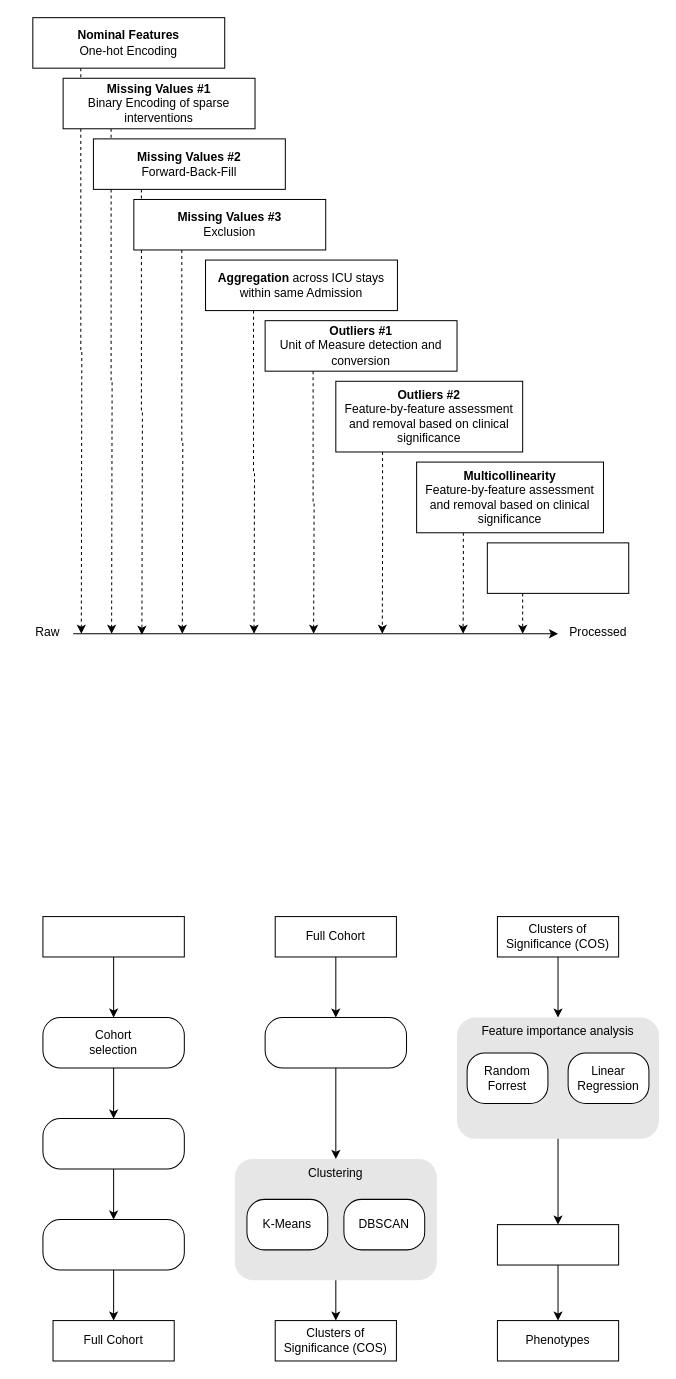
Some shapes in this 676 by 1379 pixel diagram are drawn without their labels. Here are the shapes that lost their labels. From the top down, the centre of each, then its label:
point 557,567: Normalisation RobustScaler
point 113,936: MIMIC-IV
point 335,1042: Dimension reduction PCA
point 113,1143: Data extraction
point 113,1244: Data processing
point 557,1244: Important Features
